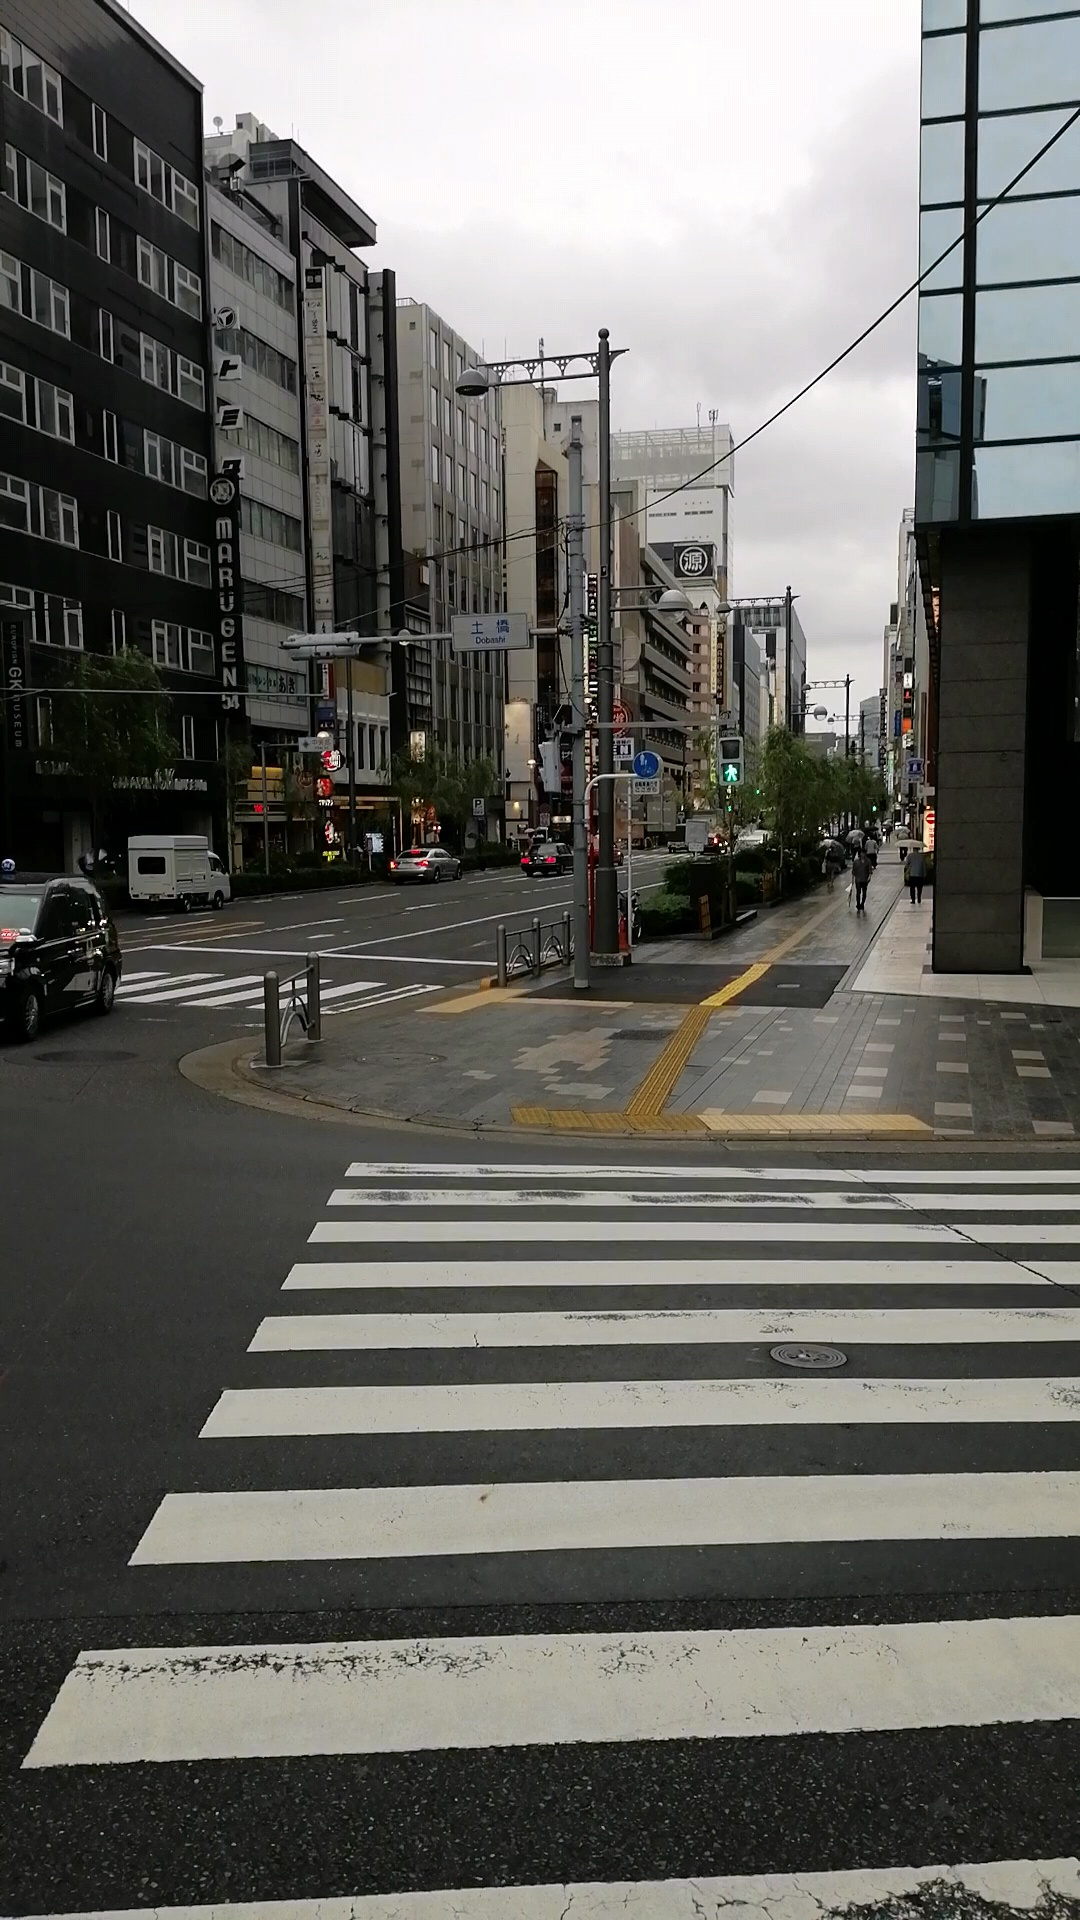green: (716, 736, 745, 787)
